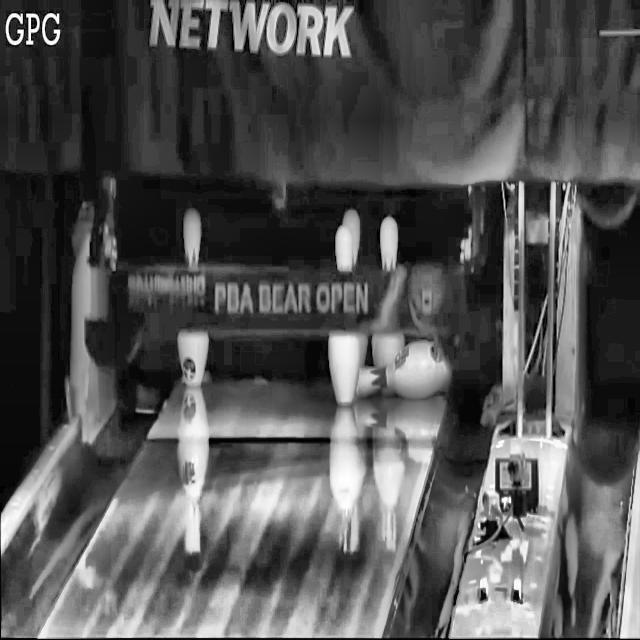bowling-pins: (177, 332, 208, 385), (183, 209, 200, 267), (381, 216, 398, 269), (336, 225, 353, 270)
sweep board: (85, 263, 467, 368)
